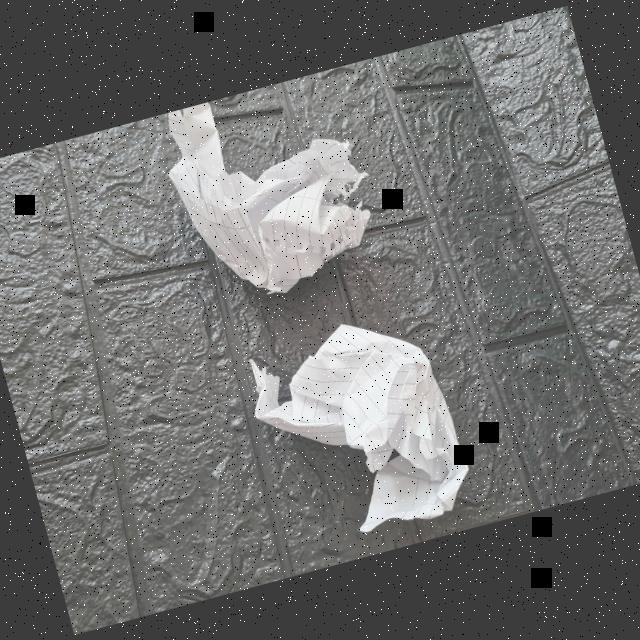scrap_paper: (245, 312, 485, 566), (155, 78, 387, 311)
